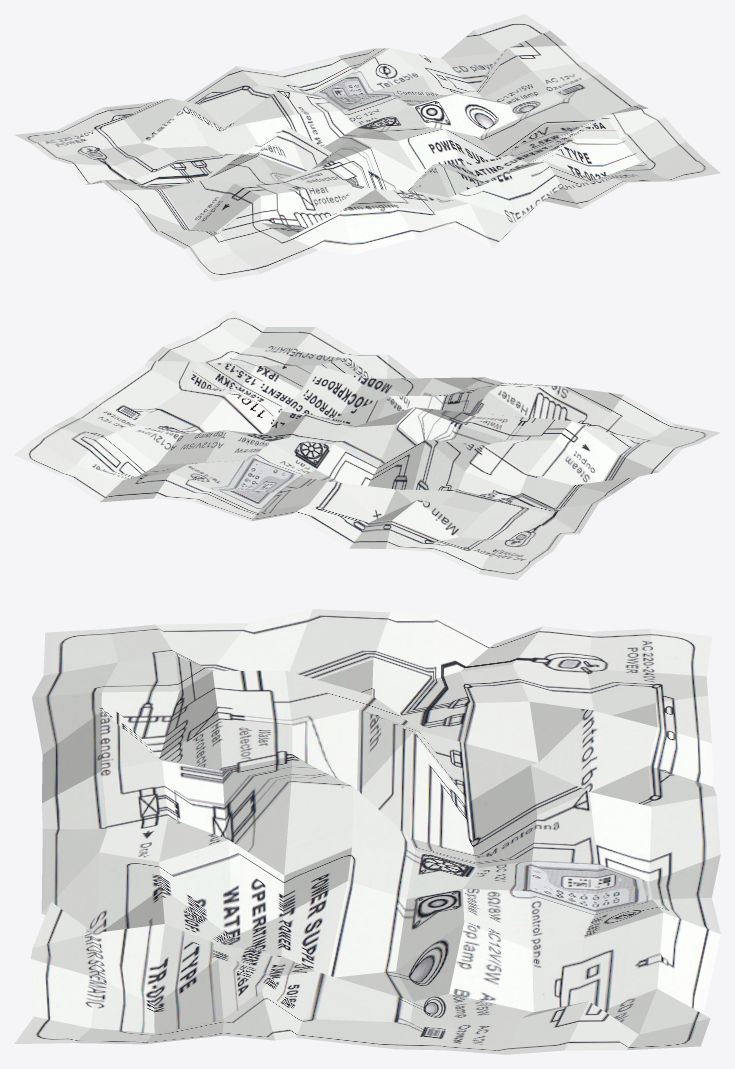
The model's file is instructions.fbx.
3 renders of one model, top to bottom at view 1: azimuth 30°, elevation 25°; view 2: azimuth 150°, elevation 25°; view 3: azimuth 270°, elevation 25°, orthographic. The views are drawn at different scales.
Parts seen in each view (by area): view 1: 8002-a_12; view 2: 8002-a_12; view 3: 8002-a_12.
Boxes of the visible parts, bbox=[...] form: 8002-a_12: bbox=[14, 14, 720, 281]; 8002-a_12: bbox=[14, 310, 720, 580]; 8002-a_12: bbox=[14, 609, 720, 1054].
Size of the model in its own units: 1.45 by 0.1724 by 1.05.
